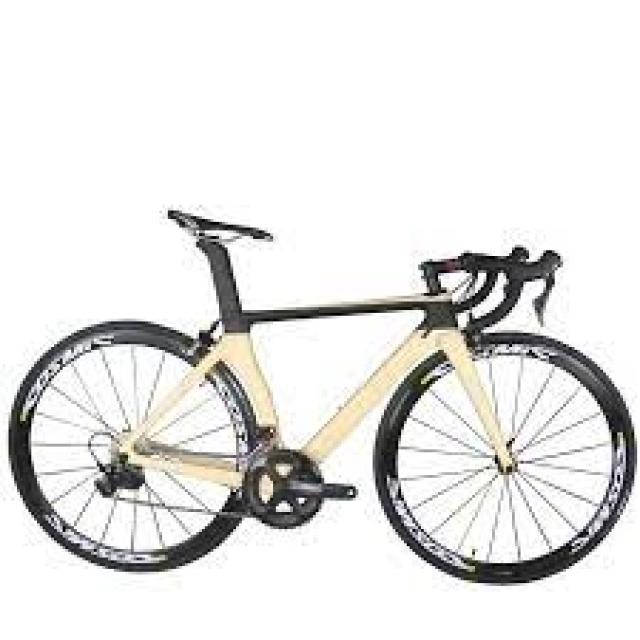road-bike: (12, 213, 635, 588)
